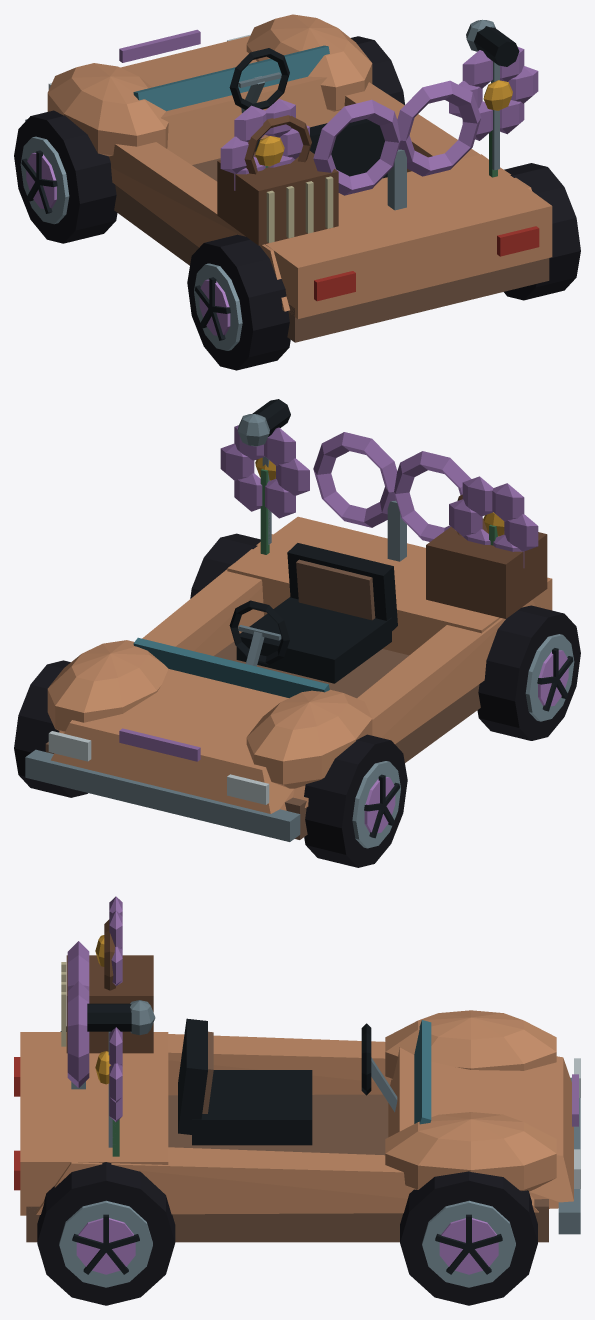
Rendered from kart.glb.
The picture shows the model from 3 angles, top to bottom: view 1: azimuth 30°, elevation 25°; view 2: azimuth 150°, elevation 25°; view 3: azimuth 270°, elevation 25°; orthographic projection. The views are drawn at different scales.
Parts seen in each view (by area): view 1: identity-toy-car-toy-rounded-body-and-wind-up-key, wheel-rear-left, wheel-front-left, identity-toy-car-motif-basket, identity-toy-car-motif-flowers, identity-toy-car-driver-cockpit, wheel-rear-right, identity-toy-car-motif-microphone, wheel-front-right; view 2: identity-toy-car-toy-rounded-body-and-wind-up-key, identity-toy-car-driver-cockpit, wheel-rear-left, identity-toy-car-motif-flowers, wheel-front-left, identity-toy-car-motif-basket, wheel-front-right, identity-toy-car-motif-microphone, wheel-rear-right; view 3: identity-toy-car-toy-rounded-body-and-wind-up-key, wheel-rear-right, wheel-front-right, identity-toy-car-driver-cockpit, identity-toy-car-motif-basket, identity-toy-car-motif-flowers, identity-toy-car-motif-microphone.
Boxes of the visible parts, <box> form: identity-toy-car-toy-rounded-body-and-wind-up-key: <box>25,14,552,342</box>; wheel-rear-left: <box>187,234,290,370</box>; wheel-front-left: <box>14,110,117,243</box>; identity-toy-car-motif-basket: <box>217,115,338,245</box>; identity-toy-car-motif-flowers: <box>220,47,538,190</box>; identity-toy-car-driver-cockpit: <box>229,48,387,178</box>; wheel-rear-right: <box>504,163,580,300</box>; identity-toy-car-motif-microphone: <box>466,19,519,170</box>; wheel-front-right: <box>351,36,404,104</box>; identity-toy-car-toy-rounded-body-and-wind-up-key: <box>25,432,552,841</box>; identity-toy-car-driver-cockpit: <box>229,543,397,683</box>; wheel-rear-left: <box>477,605,580,740</box>; identity-toy-car-motif-flowers: <box>220,425,538,567</box>; wheel-front-left: <box>304,734,407,867</box>; identity-toy-car-motif-basket: <box>426,494,547,618</box>; wheel-front-right: <box>14,660,87,797</box>; identity-toy-car-motif-microphone: <box>237,399,290,544</box>; wheel-rear-right: <box>190,533,260,598</box>; identity-toy-car-toy-rounded-body-and-wind-up-key: <box>14,941,580,1242</box>; wheel-rear-right: <box>37,1162,175,1305</box>; wheel-front-right: <box>400,1171,537,1305</box>; identity-toy-car-driver-cockpit: <box>178,1018,397,1145</box>; identity-toy-car-motif-basket: <box>61,919,153,1053</box>; identity-toy-car-motif-flowers: <box>95,896,122,1156</box>; identity-toy-car-motif-microphone: <box>87,1000,155,1147</box>.
Size of the model in its own units: 2.13 by 1.57 by 2.88.
